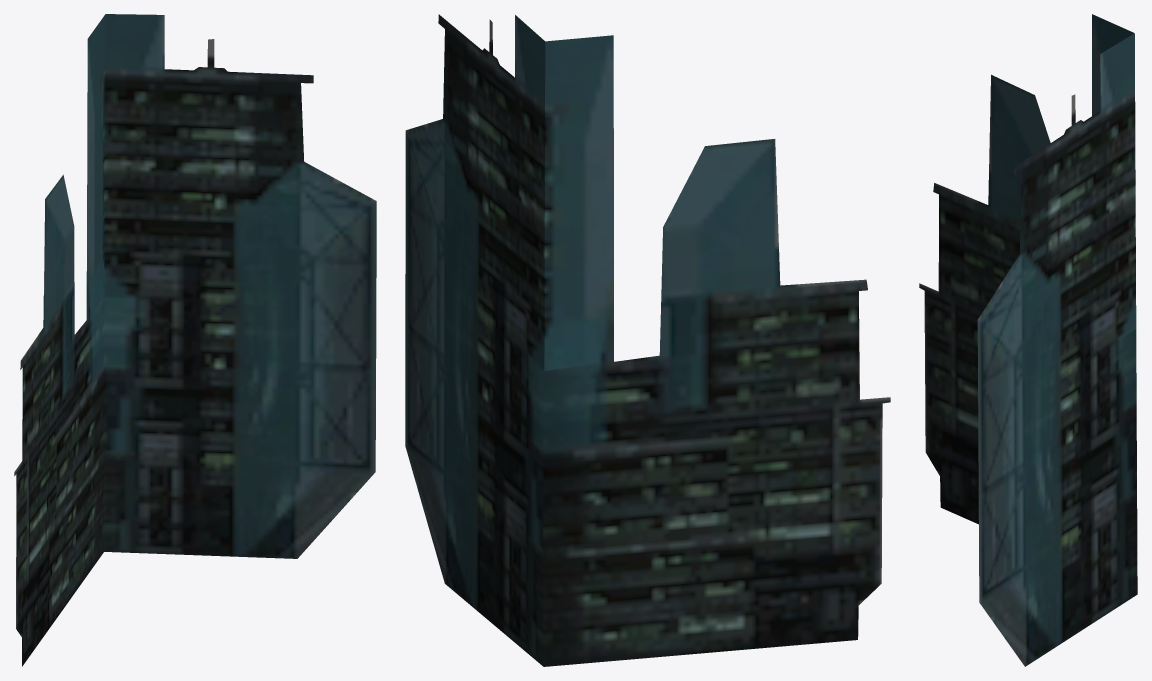
The model's file is site_03.glb.
3 renders of one model, left to right at view 1: azimuth 30°, elevation 25°; view 2: azimuth 150°, elevation 25°; view 3: azimuth 270°, elevation 25°, orthographic. The views are drawn at different scales.
Visible parts, largest first — view 1: CHR_1B.272_mat_94.003_0; view 2: CHR_1B.272_mat_94.003_0; view 3: CHR_1B.272_mat_94.003_0.
Part boxes in pixels (bbox=[...]): CHR_1B.272_mat_94.003_0: bbox=[14, 14, 376, 666]; CHR_1B.272_mat_94.003_0: bbox=[405, 14, 890, 666]; CHR_1B.272_mat_94.003_0: bbox=[919, 14, 1137, 666].
Bounding box in the file's own units: 140 × 186 × 65.14.
Materials: 1 (1 with a texture image).
